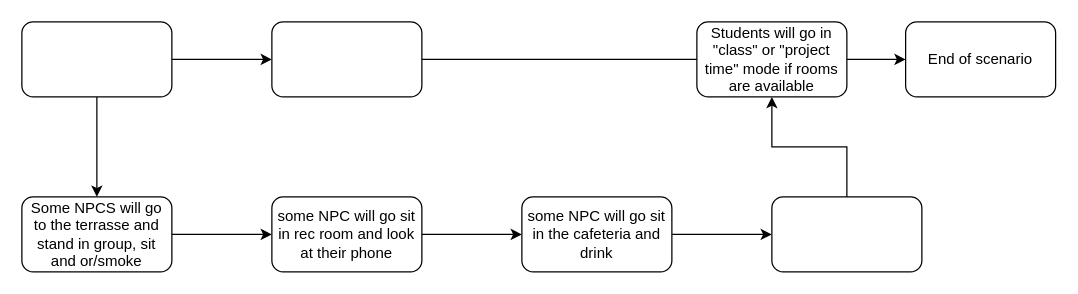
Some shapes in this 1078 by 294 pixel diagram are drawn without their labels. The centre of each missing label's shape, as x and y in pixels:
"Free time" belongs at point (96, 59).
"some NPC will sit on bench in the corridors and look at their phone" belongs at point (846, 234).
"Students roams on the school in groups" belongs at point (346, 59).
